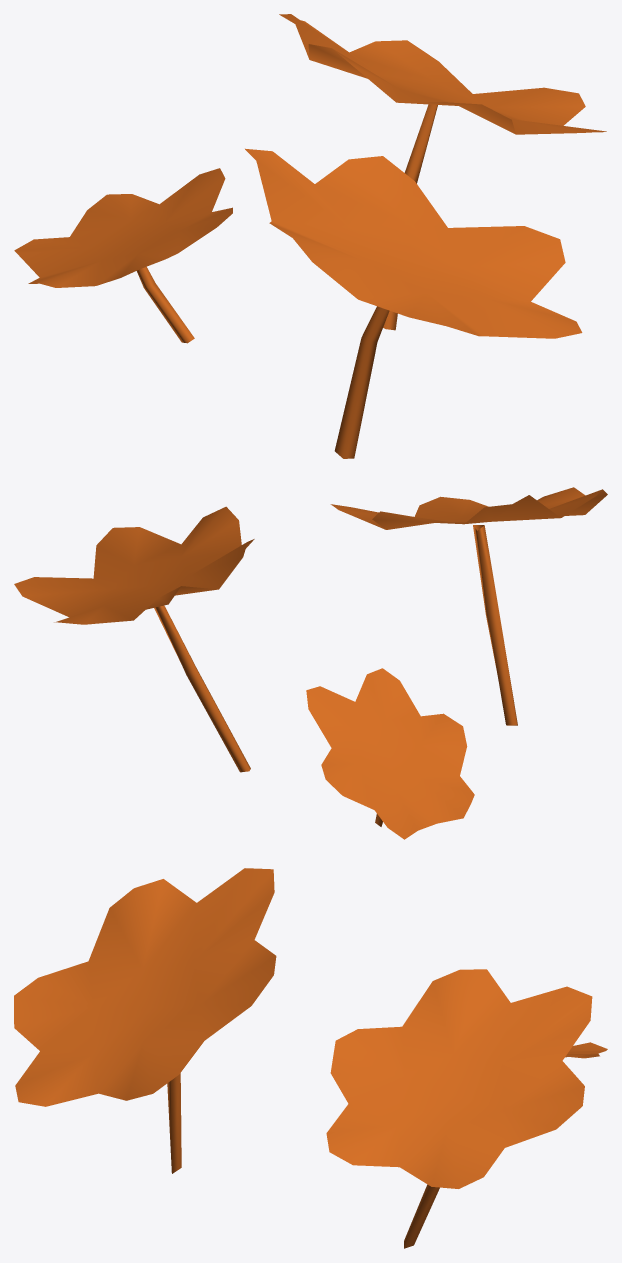
The model's file is Grass Blade (2) 4  WHITE FLOWERS.fbx.
3 renders of one model, top to bottom at view 1: azimuth 30°, elevation 25°; view 2: azimuth 150°, elevation 25°; view 3: azimuth 270°, elevation 25°, orthographic. The views are drawn at different scales.
Parts seen in each view (by area): view 1: flowers MINE 2, flowers MINE 3, flowers MINE 1; view 2: flowers MINE 3, flowers MINE 1, flowers MINE 2; view 3: flowers MINE 1, flowers MINE 2.
Boxes of the visible parts, left/top/right/bottom form: flowers MINE 2: left=245, top=148, right=582, bottom=458; flowers MINE 3: left=14, top=168, right=232, bottom=343; flowers MINE 1: left=279, top=14, right=606, bottom=330; flowers MINE 3: left=306, top=668, right=474, bottom=839; flowers MINE 1: left=14, top=506, right=254, bottom=772; flowers MINE 2: left=330, top=487, right=607, bottom=725; flowers MINE 1: left=326, top=969, right=592, bottom=1248; flowers MINE 2: left=14, top=868, right=276, bottom=1173.
Size of the model in its own units: 4.52 by 2.41 by 4.67.
